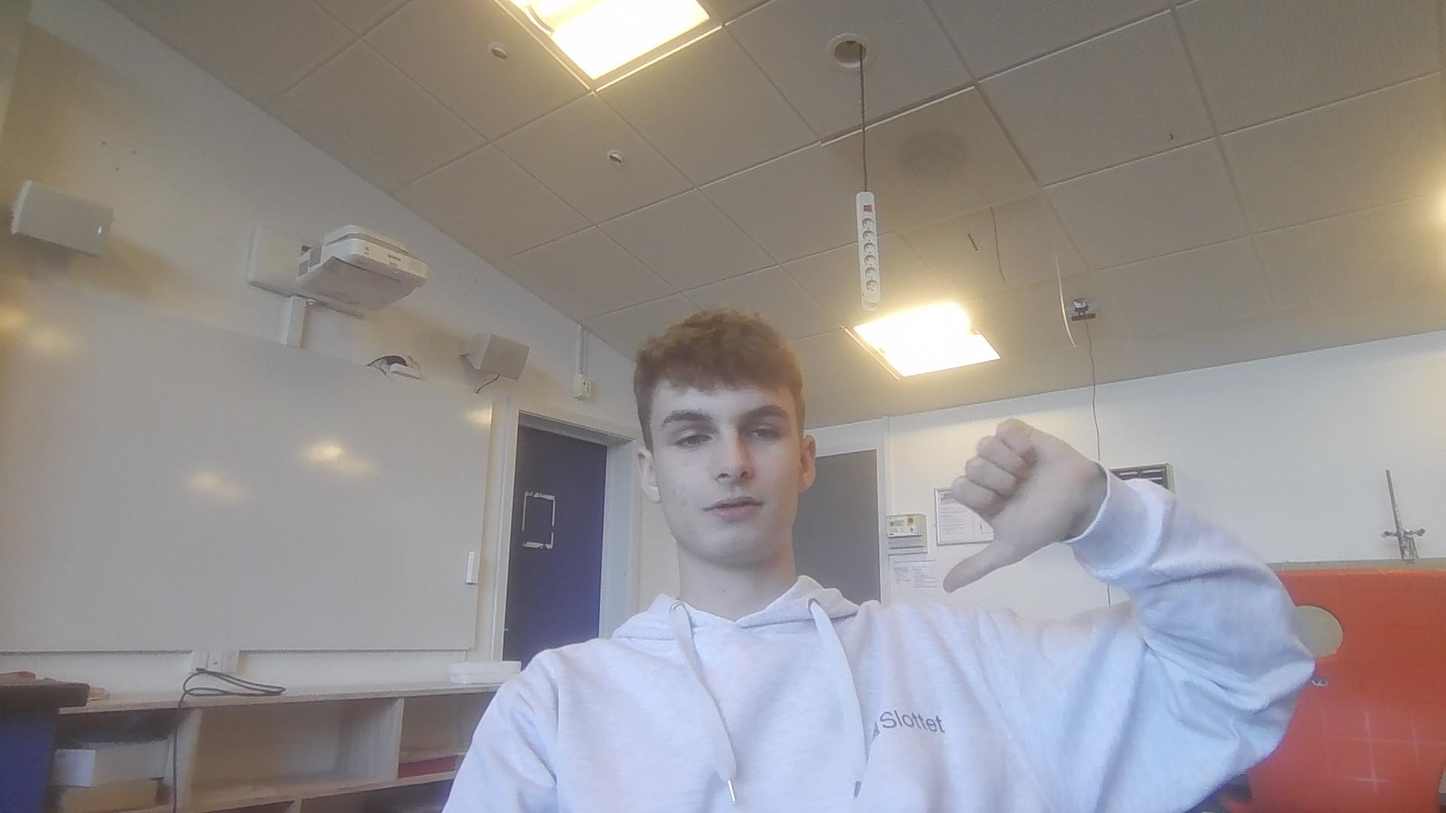thumbs down: (890, 410, 1111, 602)
